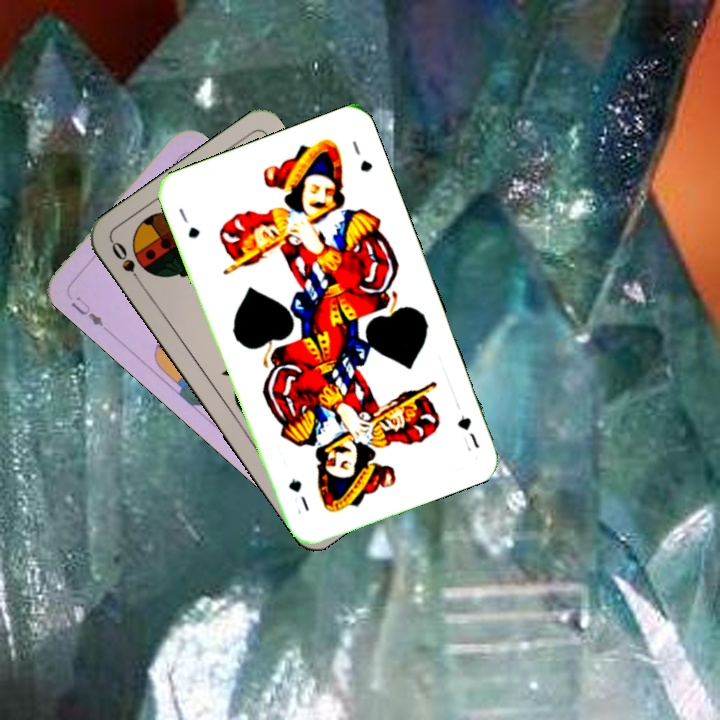EU: (67, 291, 106, 329)
GU: (453, 411, 482, 455), (174, 204, 203, 241)
SO: (107, 237, 147, 290)
